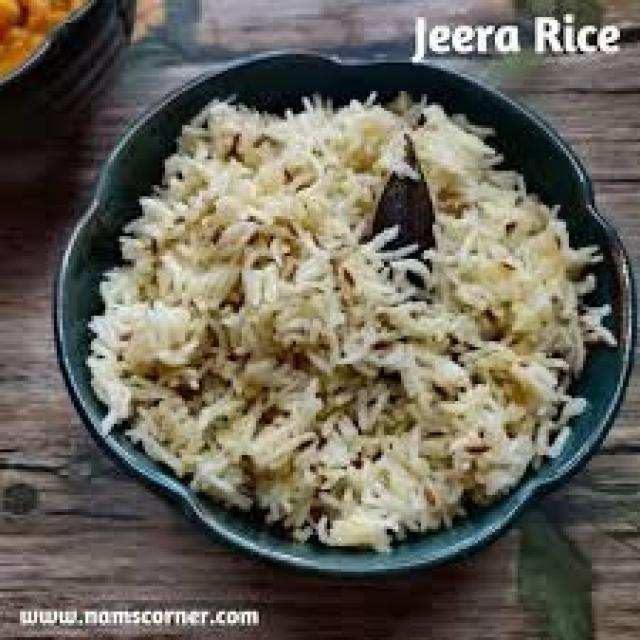nei satham: (102, 87, 552, 553)
